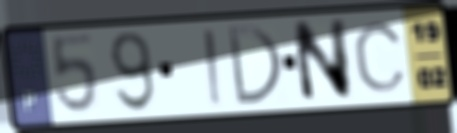5: (49, 30, 101, 119)
9: (105, 30, 158, 115)
C: (350, 20, 410, 95)
D: (224, 23, 287, 107)
I: (201, 26, 227, 108)
N: (289, 16, 355, 106)
